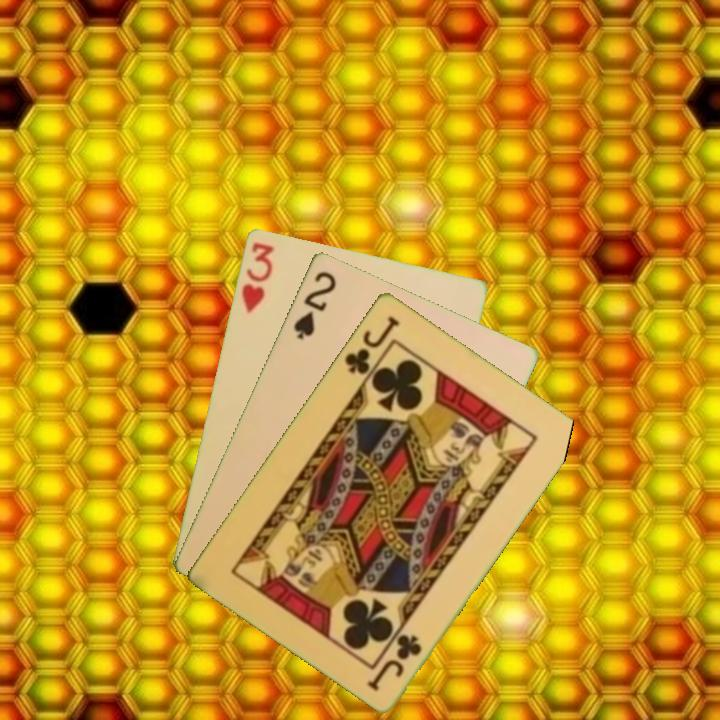2s: (289, 267, 339, 342)
3h: (237, 238, 276, 316)
Jc: (340, 311, 403, 378), (364, 629, 425, 693)
